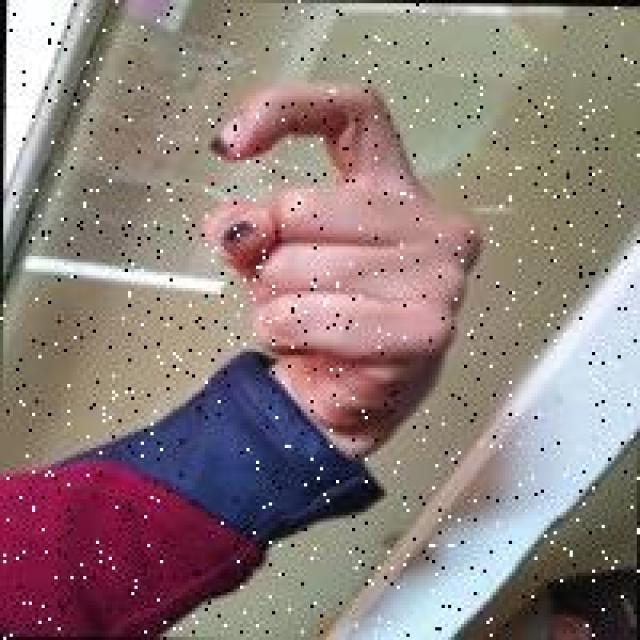X: (200, 72, 491, 392)
